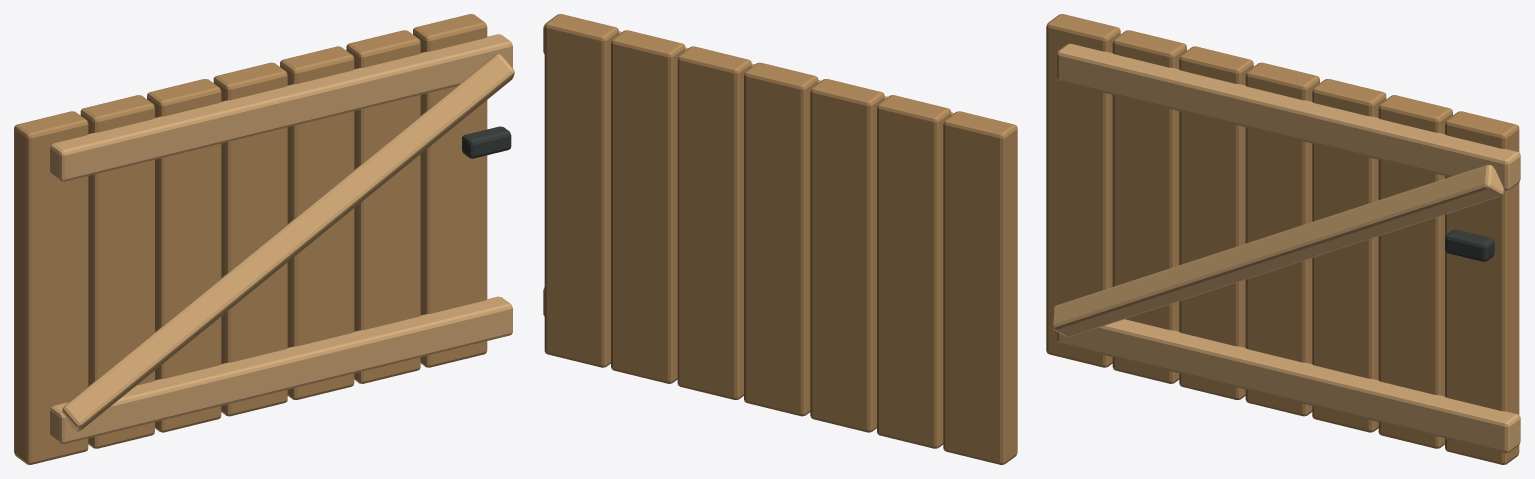
File: SM_RelaxedNeighborHouse_Gate.fbx
The picture shows the model from 3 angles, left to right: view 1: azimuth 30°, elevation 25°; view 2: azimuth 150°, elevation 25°; view 3: azimuth 330°, elevation 25°; orthographic projection.
Parts seen in each view (by area): view 1: SM_RelaxedNeighborHouse_Gate; view 2: SM_RelaxedNeighborHouse_Gate; view 3: SM_RelaxedNeighborHouse_Gate.
Part boxes in pixels (bbox=[...]): SM_RelaxedNeighborHouse_Gate: bbox=[14, 14, 514, 464]; SM_RelaxedNeighborHouse_Gate: bbox=[543, 14, 1017, 464]; SM_RelaxedNeighborHouse_Gate: bbox=[1046, 14, 1520, 464].
Size of what is drawn, in the model's own units: 157 by 21.5 by 105.
